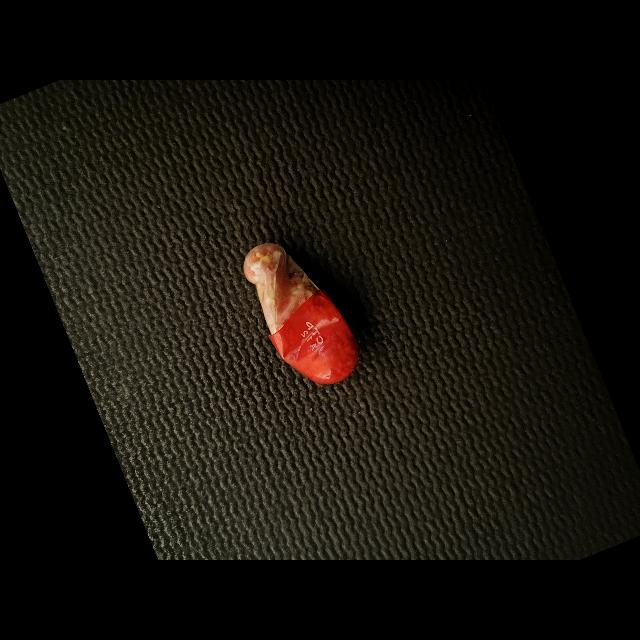Defective Capsule: (243, 243, 359, 384)
